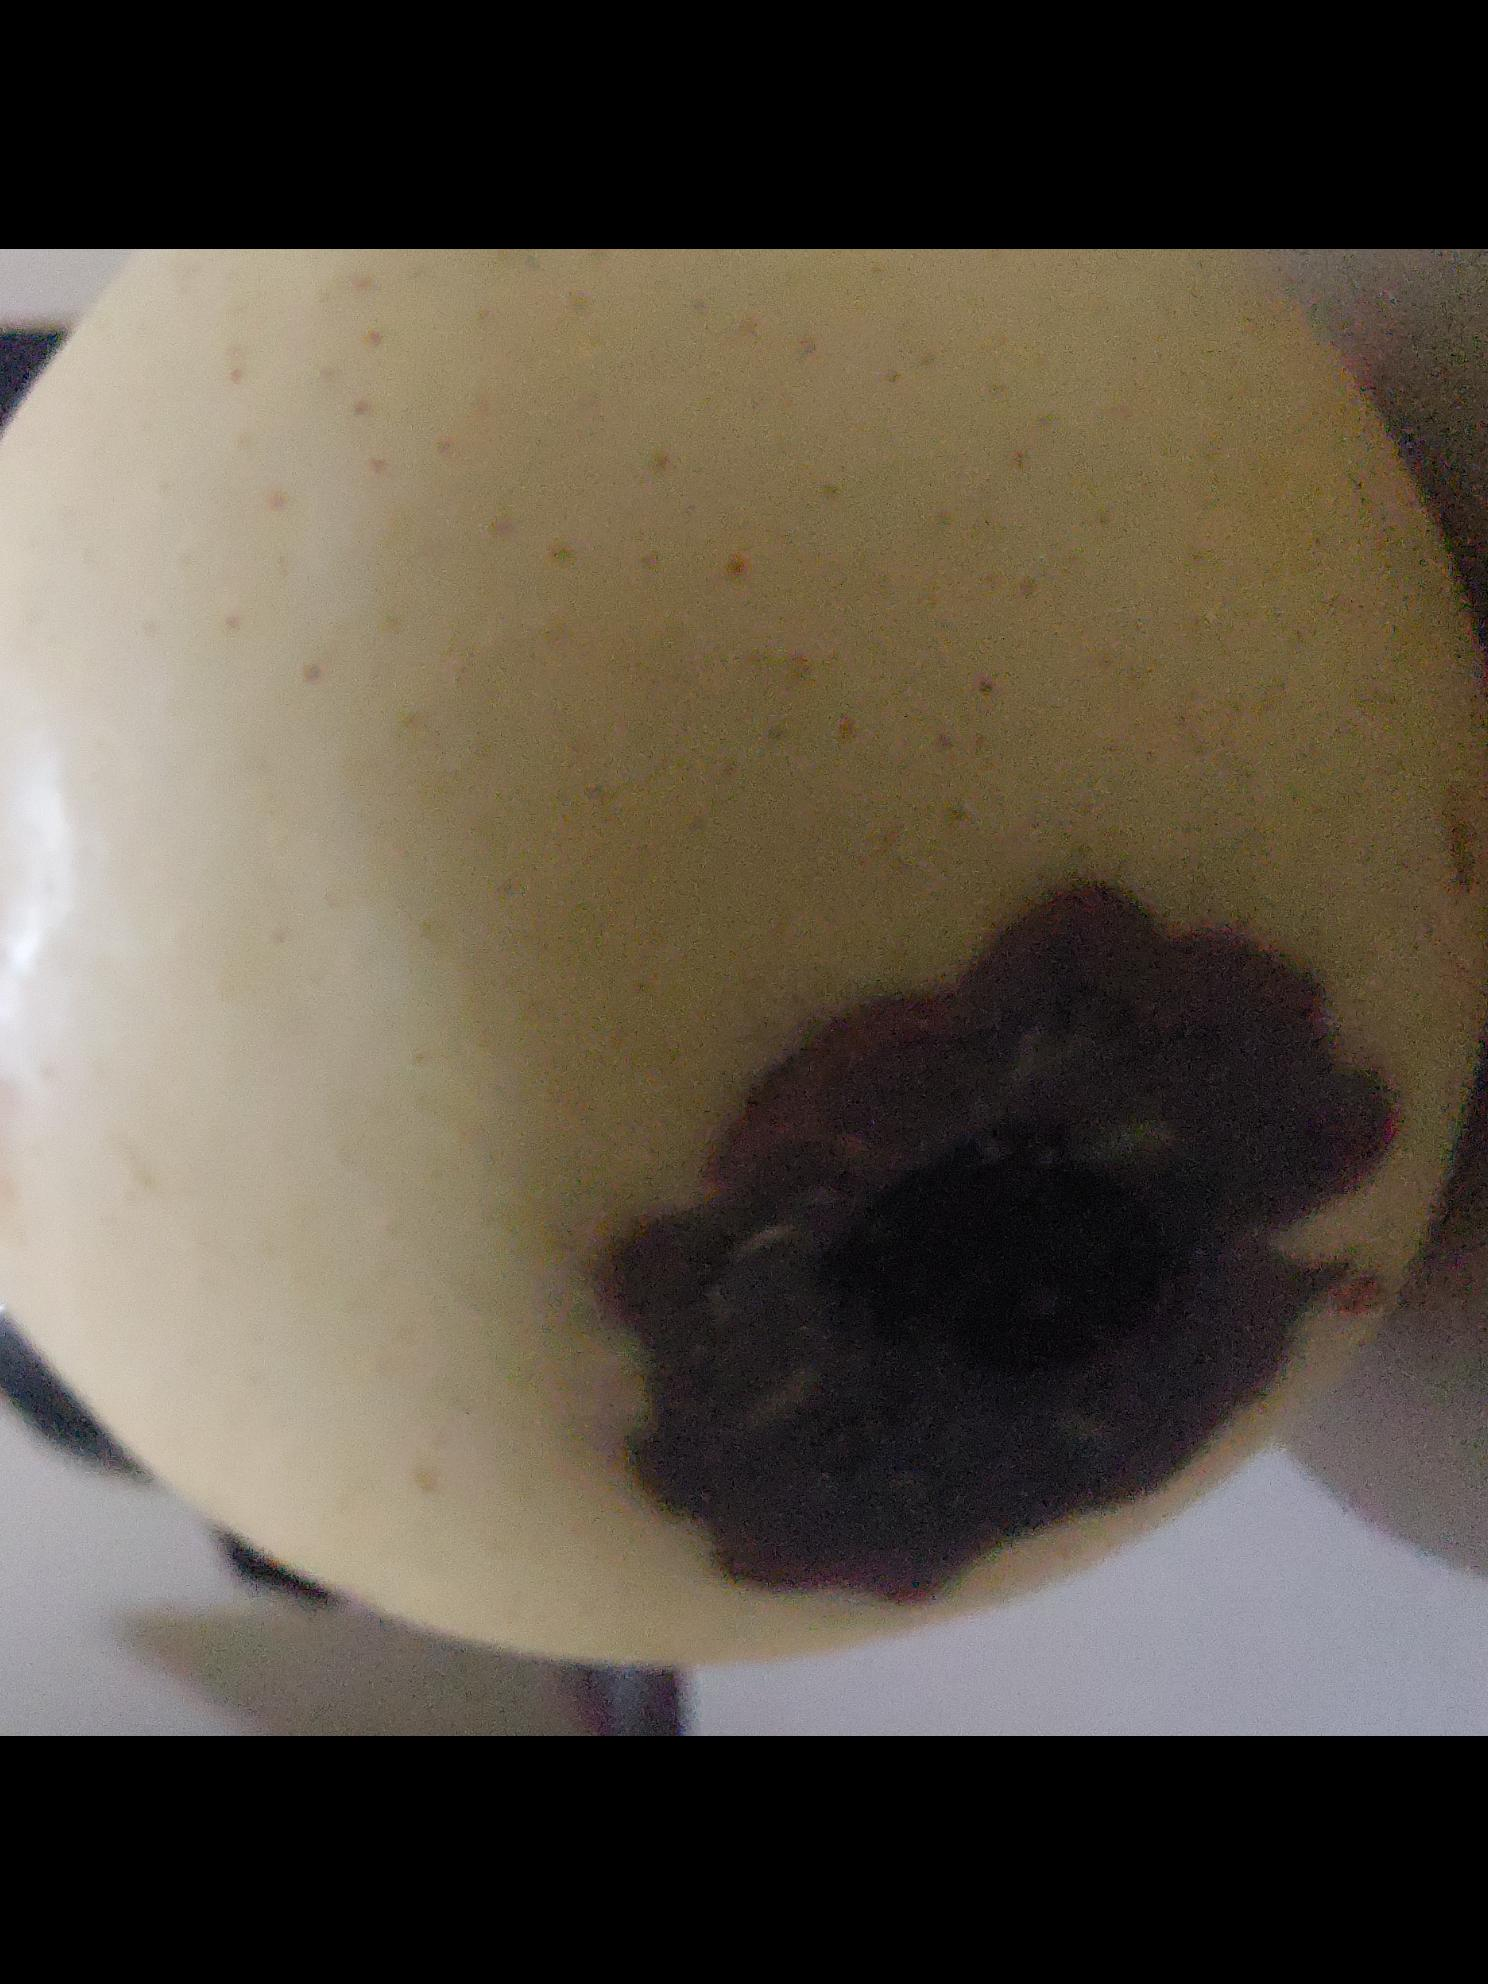Bad Pear: (0, 248, 1488, 1676), (0, 248, 1488, 1657)
